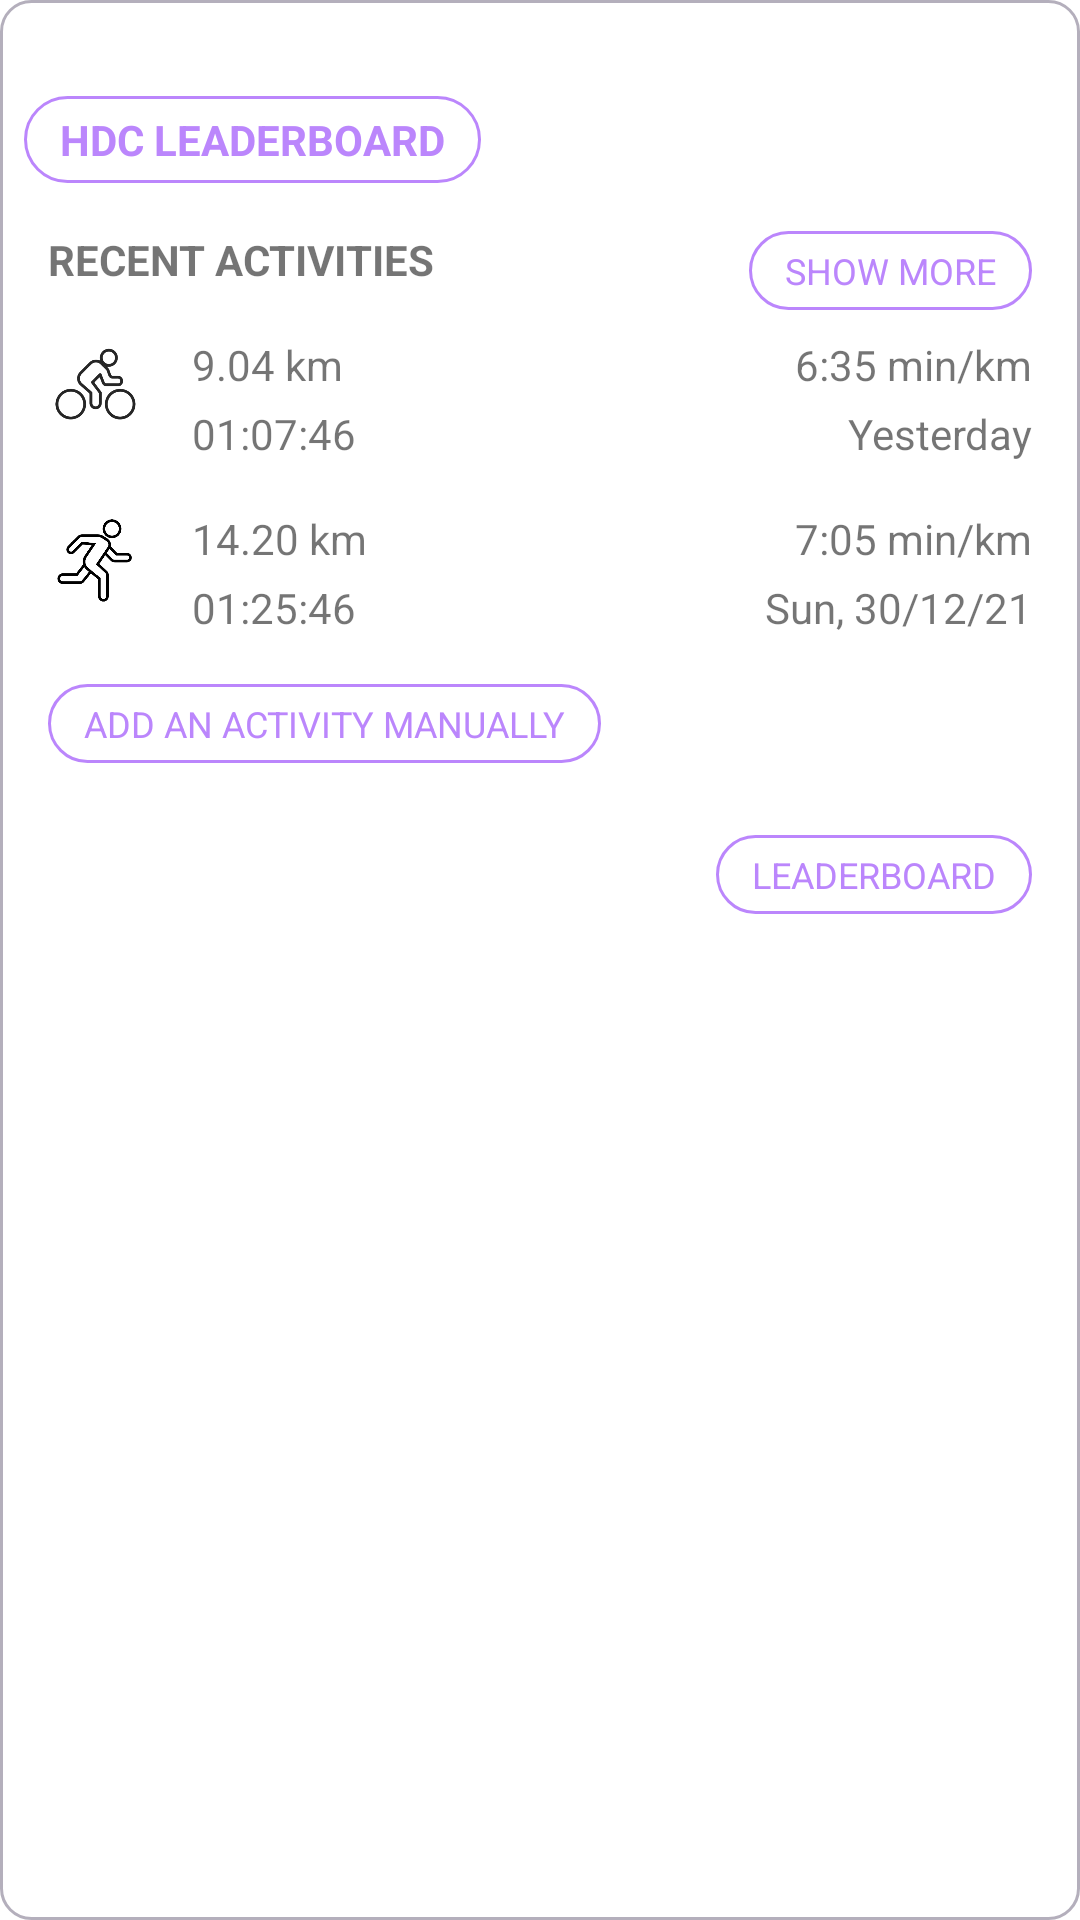

Icon click points for this 1080×1920 phone screenshot, format (x,y):
ride: (95,384)
run: (94,560)
